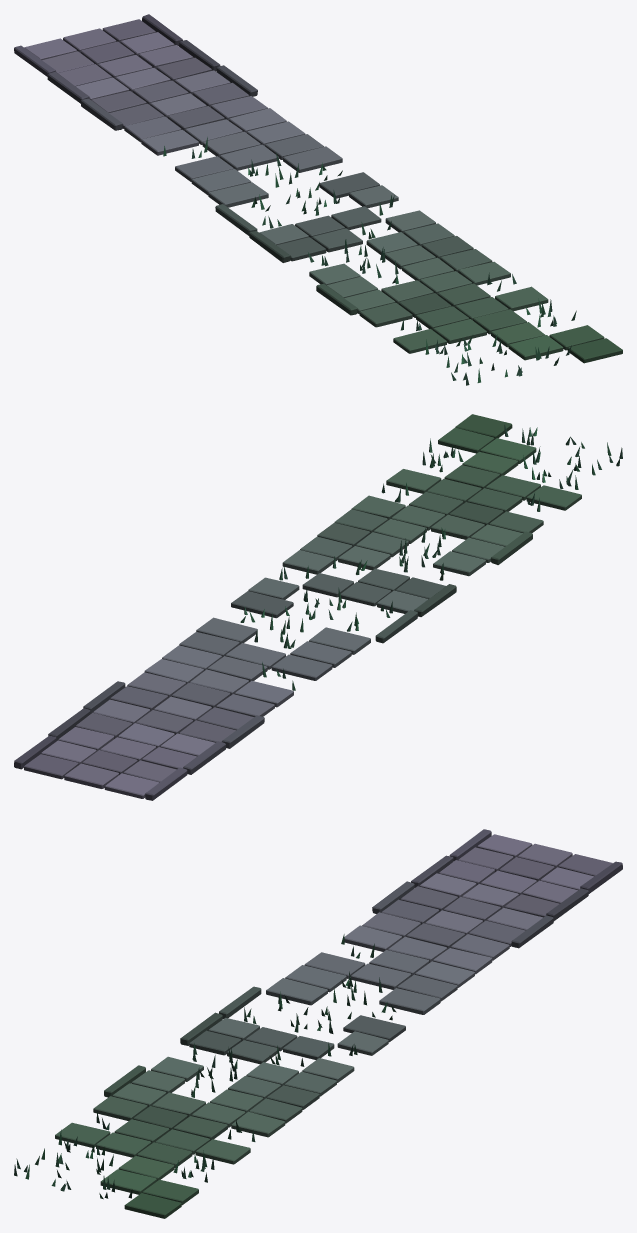
The model's file is caminho_jardim.fbx.
3 renders of one model, top to bottom at view 1: azimuth 30°, elevation 25°; view 2: azimuth 150°, elevation 25°; view 3: azimuth 330°, elevation 25°, orthographic. The views are drawn at different scales.
Parts seen in each view (by area): view 1: caminho_jardim; view 2: caminho_jardim; view 3: caminho_jardim.
Boxes of the visible parts, x1=… form: caminho_jardim: x1=14, y1=14, x2=622, y2=385; caminho_jardim: x1=14, y1=414, x2=622, y2=800; caminho_jardim: x1=14, y1=829, x2=622, y2=1218.
Size of the model in its own units: 14.12 by 1.42 by 67.44.
